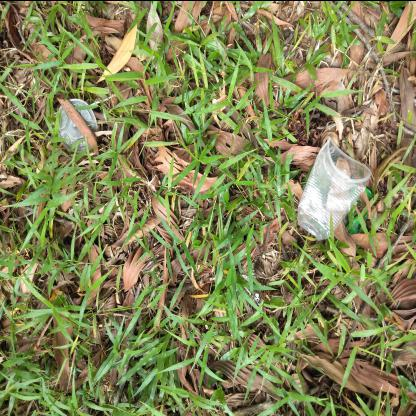plastik: (297, 135, 372, 241), (57, 98, 98, 152)
